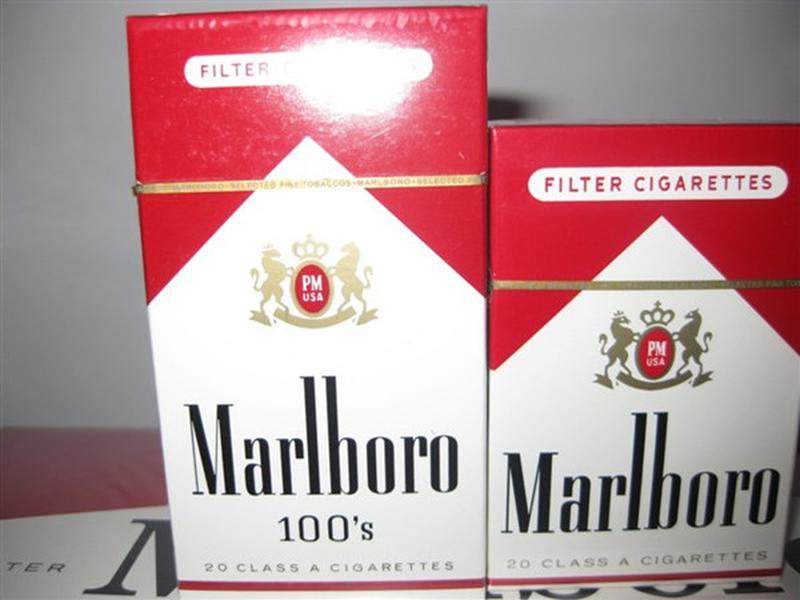marlboro_red: (167, 17, 484, 587), (489, 121, 794, 574)
